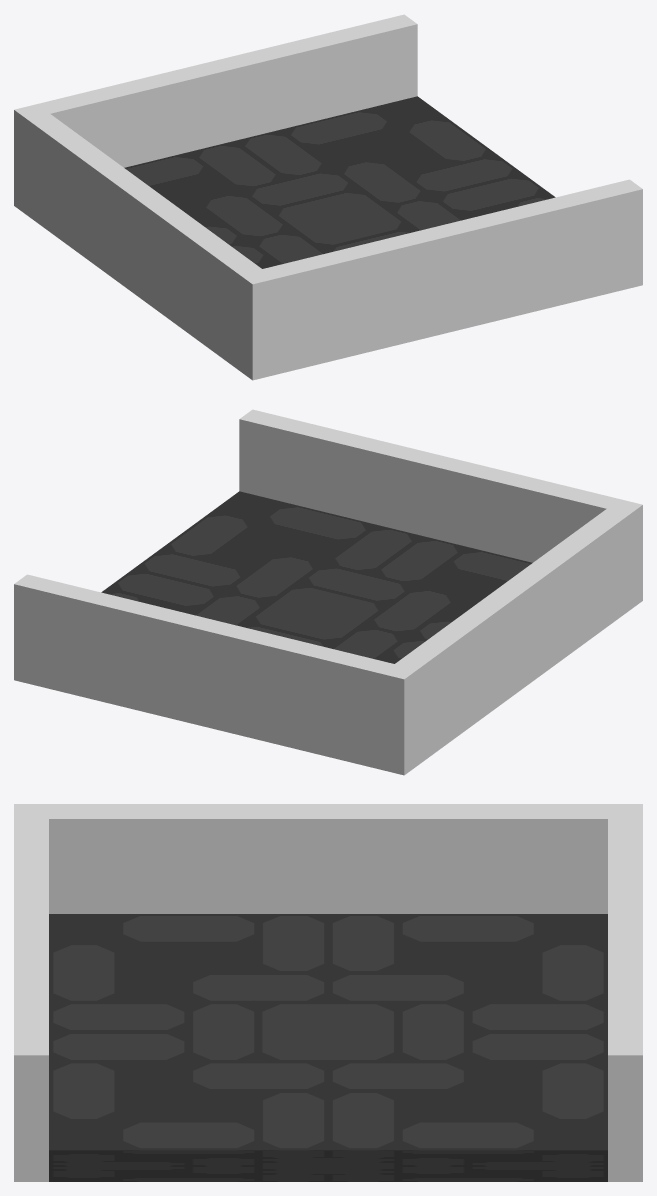
The model's file is room001.FBX.
3 renders of one model, top to bottom at view 1: azimuth 30°, elevation 25°; view 2: azimuth 150°, elevation 25°; view 3: azimuth 270°, elevation 25°, orthographic. The views are drawn at different scales.
Visible parts, largest first — view 1: Box002, Box001, Box003, Box004; view 2: Box003, Box001, Box002, Box004; view 3: Box001, Box004, Box002, Box003.
Boxes of the visible parts, bbox=[...] form: Box002: bbox=[239, 179, 642, 380]; Box001: bbox=[124, 96, 555, 268]; Box003: bbox=[14, 14, 417, 214]; Box004: bbox=[14, 105, 275, 380]; Box003: bbox=[14, 574, 417, 775]; Box001: bbox=[101, 491, 532, 663]; Box002: bbox=[239, 409, 642, 607]; Box004: bbox=[381, 500, 642, 774]; Box001: bbox=[49, 914, 607, 1181]; Box004: bbox=[14, 804, 642, 913]; Box002: bbox=[14, 804, 48, 1181]; Box003: bbox=[608, 804, 642, 1181].
Bounding box in the file's own units: 335 × 78.74 × 354.
Materials: 1 (1 with a texture image).
